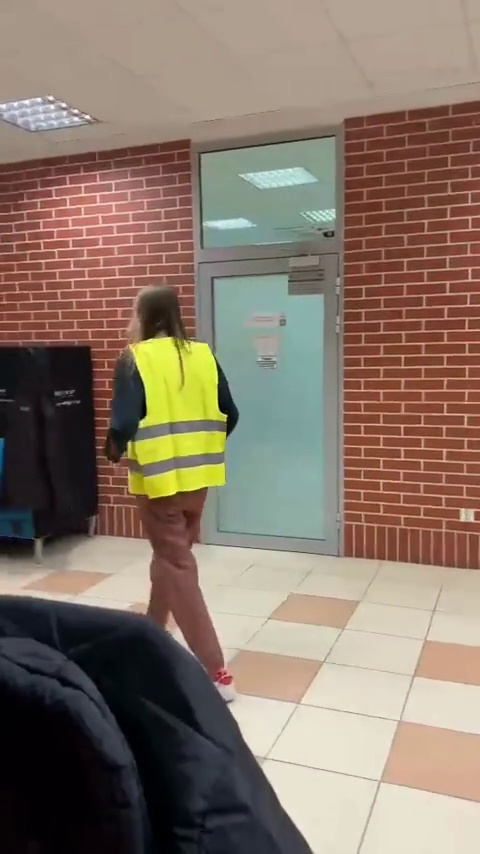vest: (97, 281, 245, 688)
